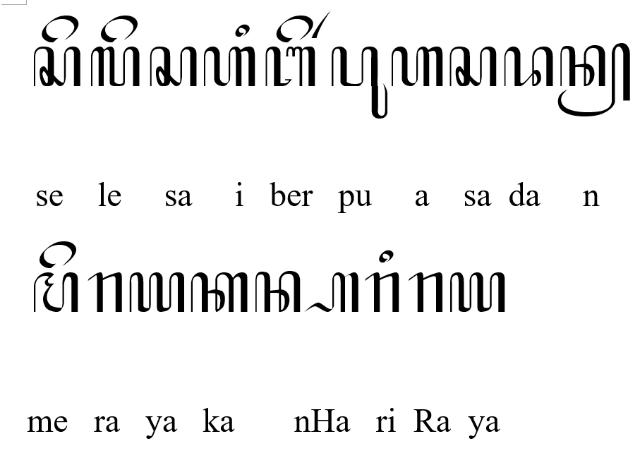-n: (557, 40, 631, 118)
_h: (304, 272, 360, 314)
_r1: (311, 10, 331, 38)
b: (264, 46, 316, 88)
d: (504, 46, 554, 88)
e: (100, 14, 138, 43), (276, 14, 314, 43), (41, 15, 79, 43), (39, 241, 77, 269)
h: (204, 46, 256, 88), (391, 46, 443, 88)
i: (378, 248, 394, 264), (234, 24, 250, 37)
k: (192, 272, 248, 312)
l: (90, 46, 140, 88)
m: (32, 271, 78, 313)
n: (254, 272, 302, 312)
pu: (330, 45, 388, 119)
r: (364, 272, 400, 314), (408, 271, 444, 313), (88, 271, 122, 313)
s: (32, 46, 82, 88), (448, 46, 498, 88), (150, 45, 198, 86)
y: (449, 270, 505, 314), (128, 272, 186, 312)
